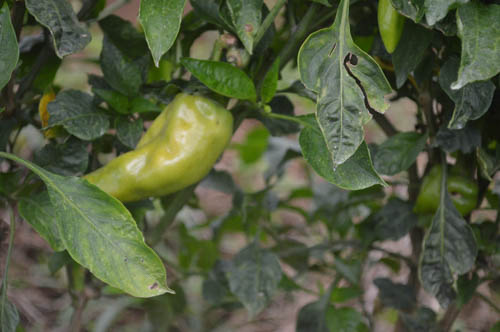ChiliPepper: (82, 95, 234, 197), (418, 166, 477, 221)
